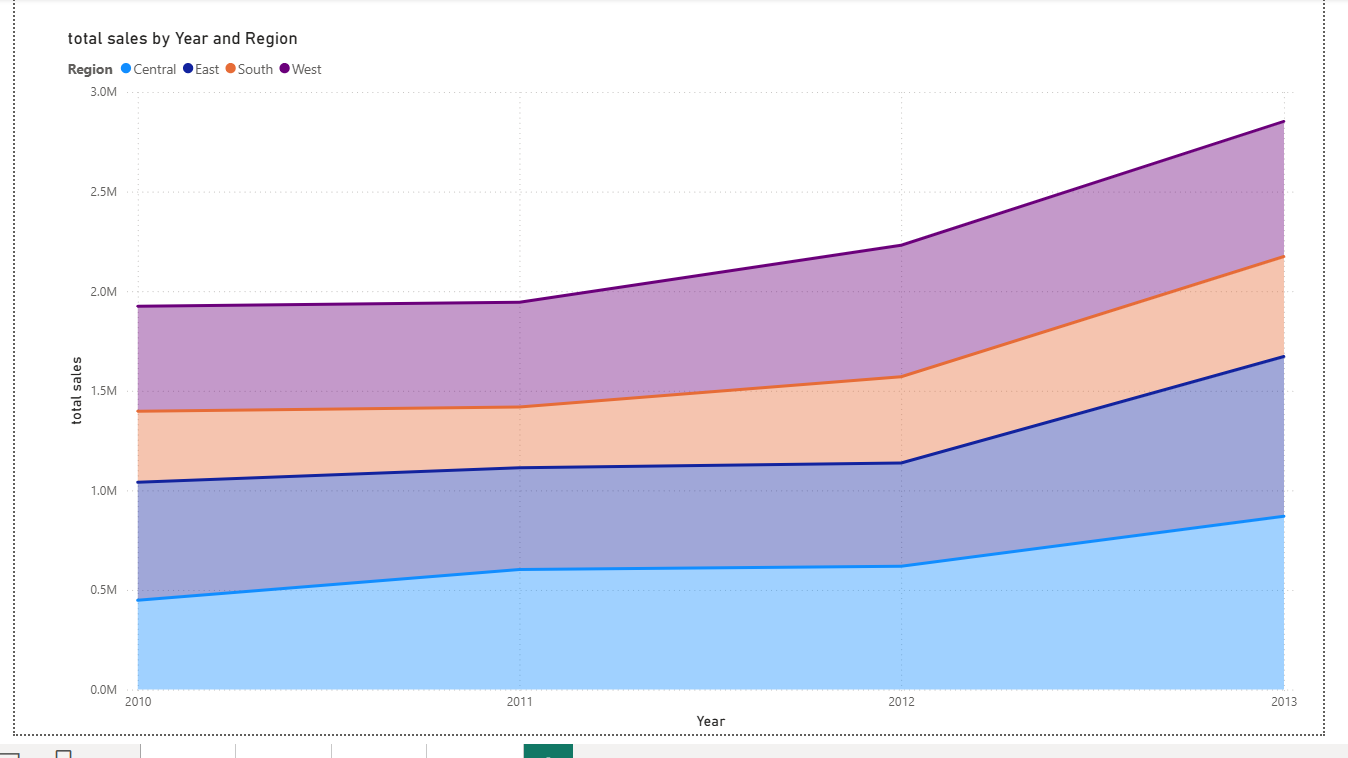

This screenshot's page, from the dashboard's own definition file:
{"tool":"powerbi","page":{"name":"Page 4","canvas":[1280,720],"ordinal":3},"visuals":[{"type":"stackedAreaChart","fields":{"Category":["Date.Date.Variation.Date Hierarchy.Year","Date.Date.Variation.Date Hierarchy.Quarter","Date.Date.Variation.Date Hierarchy.Month","Date.Date.Variation.Date Hierarchy.Day"],"Y":["Date.total sales"],"Series":["Orders.Region"]},"box":[46.5,29.3,1213,690.9],"z":0}]}

Visuals, with their boxes in screenshot pixels (x1, y1, x2, y2), scaled from the page's 1280x720 canvas onto the 1348x758 screenshot:
stackedAreaChart - Date.Date.Variation.Date Hierarchy.Year x Date.Date.Variation.Date Hierarchy.Quarter: left=49, top=31, right=1326, bottom=757
